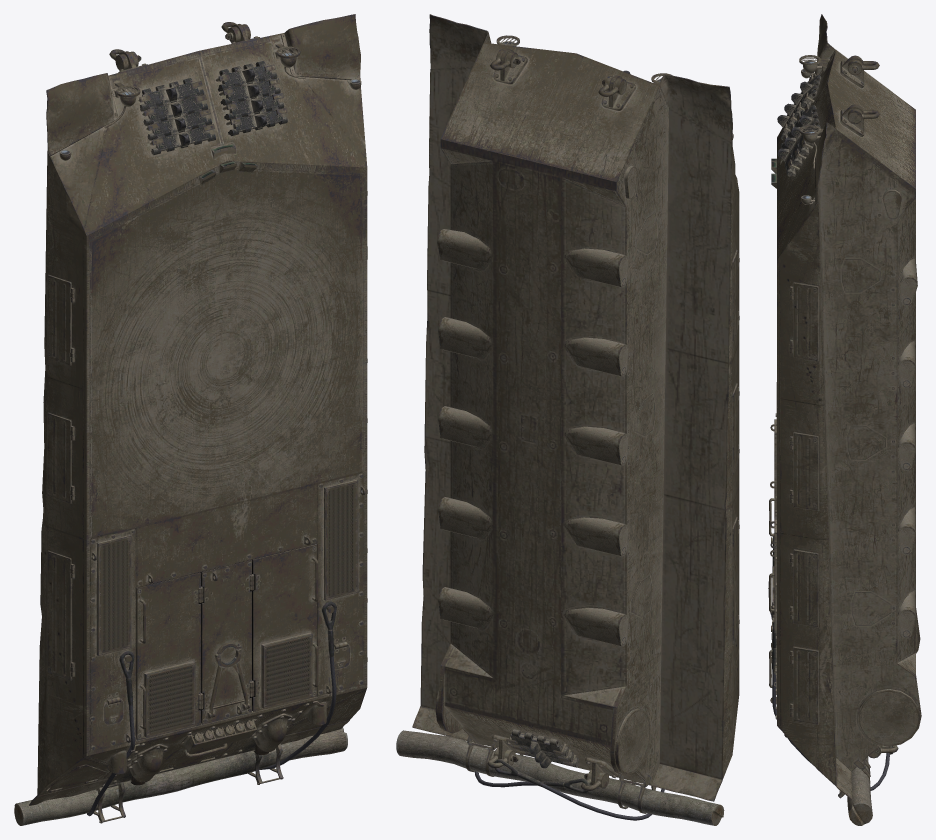
The model's file is Hull.glb.
3 views of the same model, side by side, from view 1: azimuth 30°, elevation 25°; view 2: azimuth 150°, elevation 25°; view 3: azimuth 270°, elevation 25° (orthographic). The views are drawn at different scales.
Visible parts, largest first — view 1: set_0_group_0; view 2: set_0_group_0; view 3: set_0_group_0.
Boxes of the visible parts, <box> form: set_0_group_0: <box>14,14,367,825</box>; set_0_group_0: <box>396,14,739,825</box>; set_0_group_0: <box>768,14,921,825</box>.
Size of the model in its own units: 3.28 by 7.27 by 1.49.
Materials: 1 (1 with a texture image).
